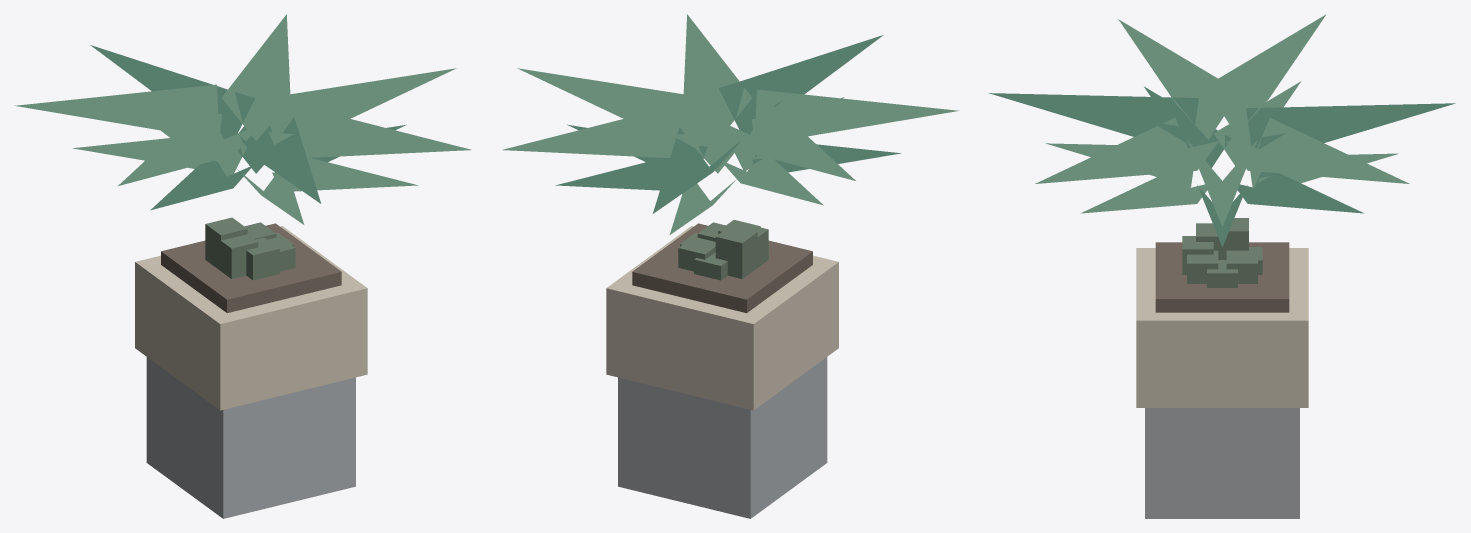
The picture shows the model from 3 angles, left to right: view 1: azimuth 30°, elevation 25°; view 2: azimuth 150°, elevation 25°; view 3: azimuth 270°, elevation 25°; orthographic projection.
Visible parts, largest first — view 1: RG-GAME-02-INDOOR-GREENERY-V16__STANDALONE_PL08__ASSET_1F_le (×2), RG-GAME-02-INDOOR-GREENERY-V16__STANDALONE_PL08__ASSET_1F_st (×2), RG-GAME-02-INDOOR-GREENERY-V16__STANDALONE_PL08__ASSET_1F_ri, RG-GAME-02-INDOOR-GREENERY-V16__STANDALONE_PL08__ASSET_1F_so; view 2: RG-GAME-02-INDOOR-GREENERY-V16__STANDALONE_PL08__ASSET_1F_le (×2), RG-GAME-02-INDOOR-GREENERY-V16__STANDALONE_PL08__ASSET_1F_st (×2), RG-GAME-02-INDOOR-GREENERY-V16__STANDALONE_PL08__ASSET_1F_ri, RG-GAME-02-INDOOR-GREENERY-V16__STANDALONE_PL08__ASSET_1F_so; view 3: RG-GAME-02-INDOOR-GREENERY-V16__STANDALONE_PL08__ASSET_1F_le (×2), RG-GAME-02-INDOOR-GREENERY-V16__STANDALONE_PL08__ASSET_1F_st (×2), RG-GAME-02-INDOOR-GREENERY-V16__STANDALONE_PL08__ASSET_1F_ri, RG-GAME-02-INDOOR-GREENERY-V16__STANDALONE_PL08__ASSET_1F_so.
Part boxes in pixels (x1=…): RG-GAME-02-INDOOR-GREENERY-V16__STANDALONE_PL08__ASSET_1F_le (×2): x1=14, y1=14, x2=471, y2=224; RG-GAME-02-INDOOR-GREENERY-V16__STANDALONE_PL08__ASSET_1F_st (×2): x1=146, y1=217, x2=355, y2=518; RG-GAME-02-INDOOR-GREENERY-V16__STANDALONE_PL08__ASSET_1F_ri: x1=135, y1=226, x2=367, y2=410; RG-GAME-02-INDOOR-GREENERY-V16__STANDALONE_PL08__ASSET_1F_so: x1=161, y1=223, x2=341, y2=313; RG-GAME-02-INDOOR-GREENERY-V16__STANDALONE_PL08__ASSET_1F_le (×2): x1=502, y1=14, x2=959, y2=234; RG-GAME-02-INDOOR-GREENERY-V16__STANDALONE_PL08__ASSET_1F_st (×2): x1=618, y1=220, x2=827, y2=518; RG-GAME-02-INDOOR-GREENERY-V16__STANDALONE_PL08__ASSET_1F_ri: x1=606, y1=226, x2=838, y2=410; RG-GAME-02-INDOOR-GREENERY-V16__STANDALONE_PL08__ASSET_1F_so: x1=632, y1=223, x2=812, y2=313; RG-GAME-02-INDOOR-GREENERY-V16__STANDALONE_PL08__ASSET_1F_le (×2): x1=988, y1=14, x2=1455, y2=247; RG-GAME-02-INDOOR-GREENERY-V16__STANDALONE_PL08__ASSET_1F_st (×2): x1=1145, y1=218, x2=1299, y2=518; RG-GAME-02-INDOOR-GREENERY-V16__STANDALONE_PL08__ASSET_1F_ri: x1=1136, y1=248, x2=1308, y2=407; RG-GAME-02-INDOOR-GREENERY-V16__STANDALONE_PL08__ASSET_1F_so: x1=1155, y1=242, x2=1289, y2=312.
Bounding box in the file's own units: 0.3794 × 0.3487 × 0.3892.
